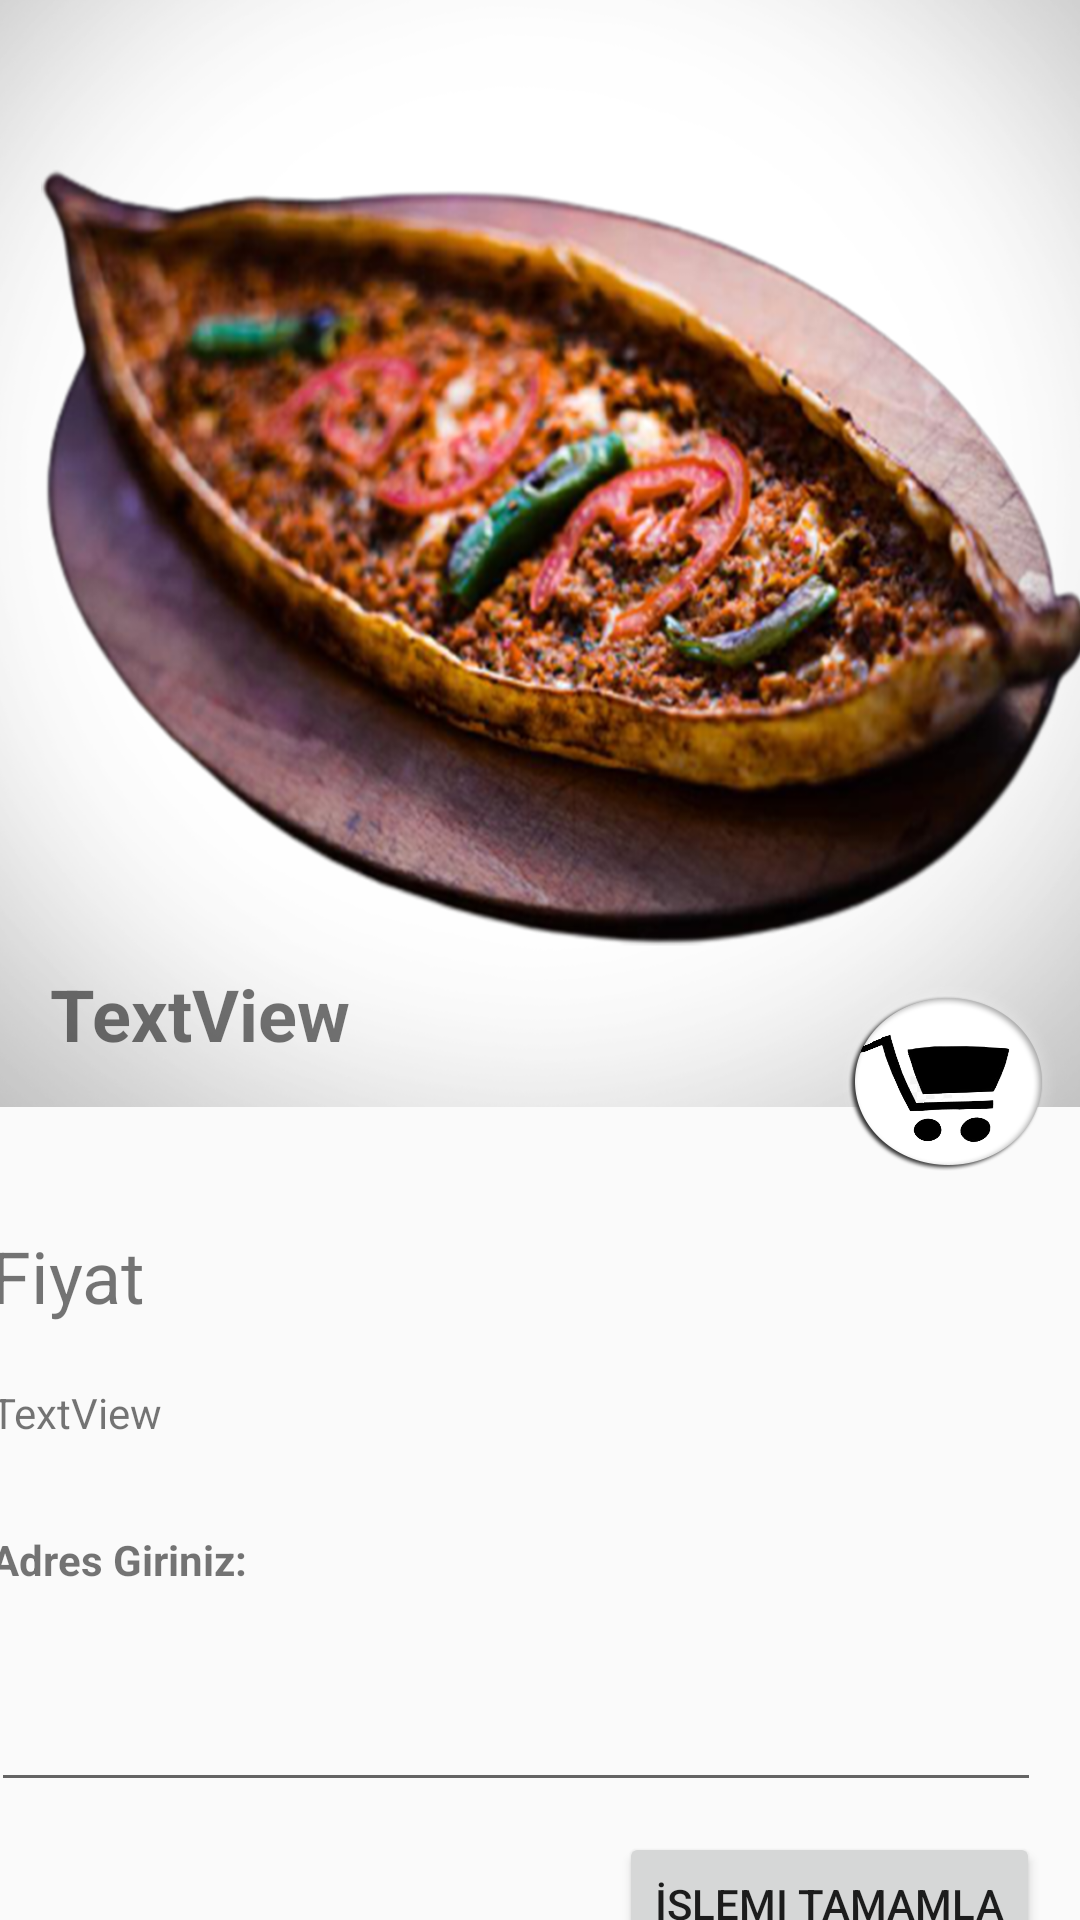

Named icons in this screenshot (1080 x 1920) and their bounding boxes, (x1, y1, x2, y2):
siparis: (810, 960, 1080, 1170)
